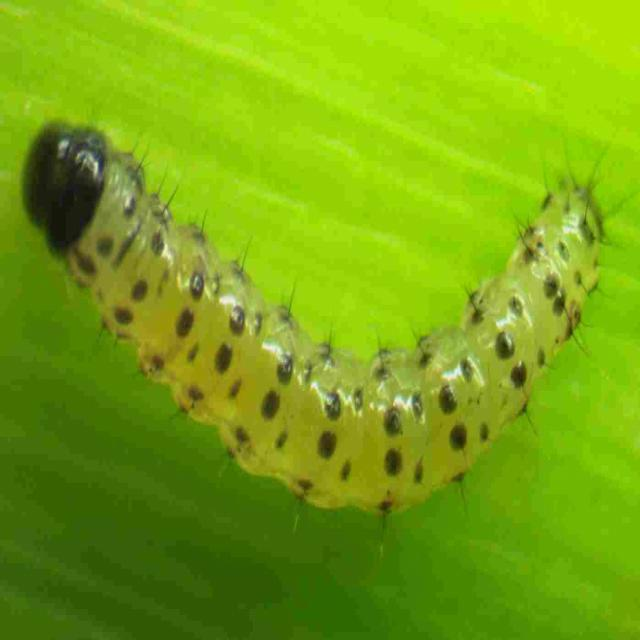cornborer-Larva-: (6, 88, 615, 521)
